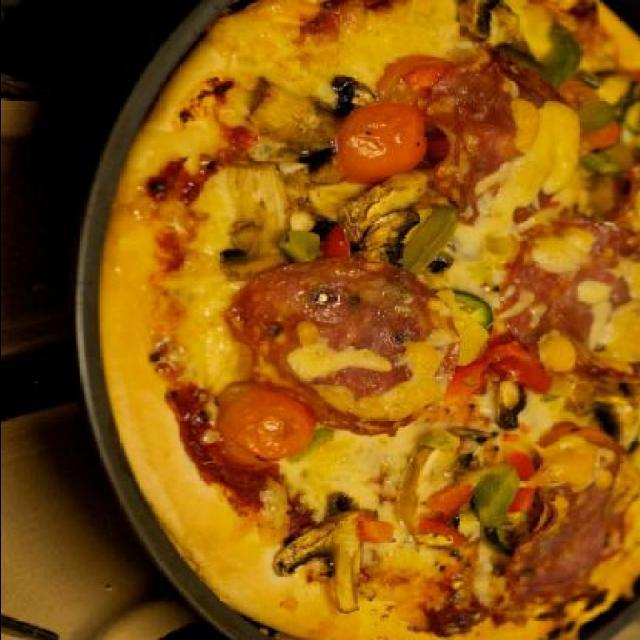Pizza: (105, 0, 640, 640)
